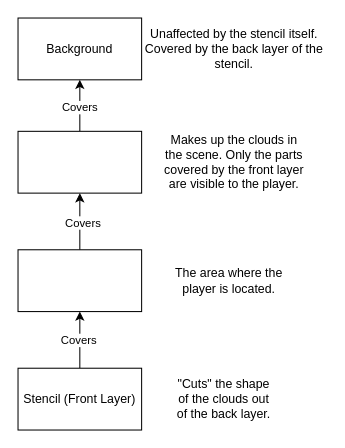
This 345x448 diagram has some shape labels left out. The centre of each missing label's shape, as x and y in pixels:
"Play Area" belongs at (x=79, y=280).
"Stencil (Back Layer)" belongs at (x=79, y=161).
